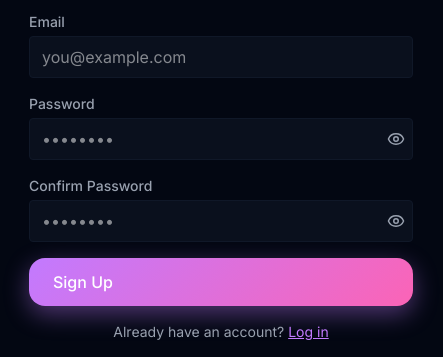
Scenario: SignupForm › shows loading state during signup
The width and height of the screenshot is (443, 357).
Type "test@example.com" into the field labelled "Email" at [221, 57], box [29,36,413,78]
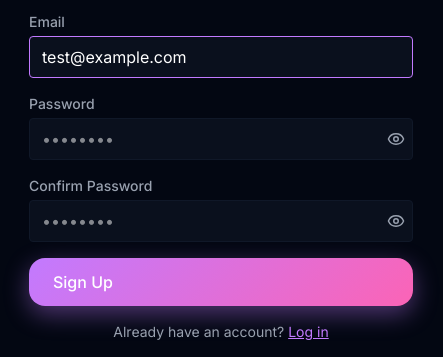
Type "secret123" into the password field labelled "Password" at [221, 139], box [29,118,413,160]
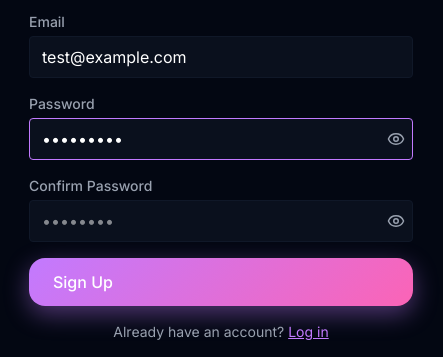
Type "secret123" into the password field labelled "Confirm Password" at [221, 221], box [29,200,413,242]
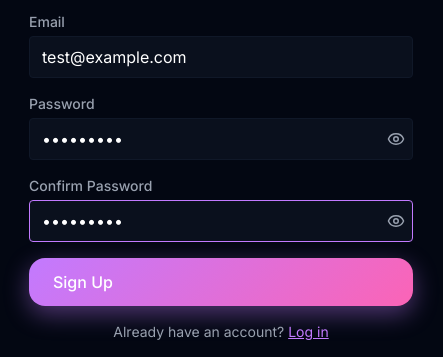
Click the button "Sign Up" at [83, 282], box [29,258,413,306]
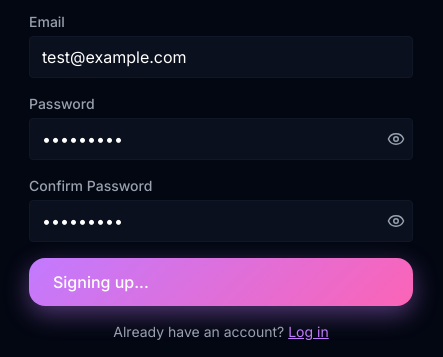
Result: the button "Signing up..." is disabled at [29,258,413,306]
